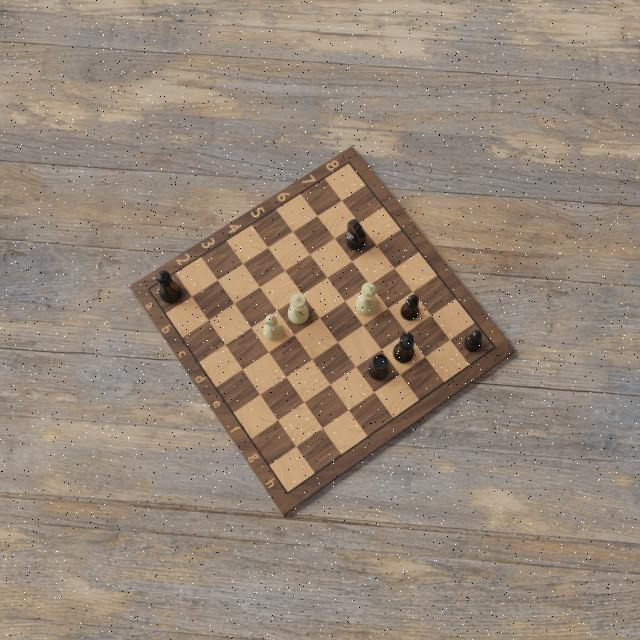black-bishop: (399, 293, 420, 322)
black-king: (155, 270, 183, 304)
black-knight: (344, 218, 366, 254)
black-pawn: (461, 327, 482, 352)
black-queen: (392, 331, 415, 365)
black-rook: (367, 353, 390, 383)
white-bishop: (263, 311, 283, 342)
white-king: (355, 280, 379, 318)
white-queen: (287, 292, 310, 328)
